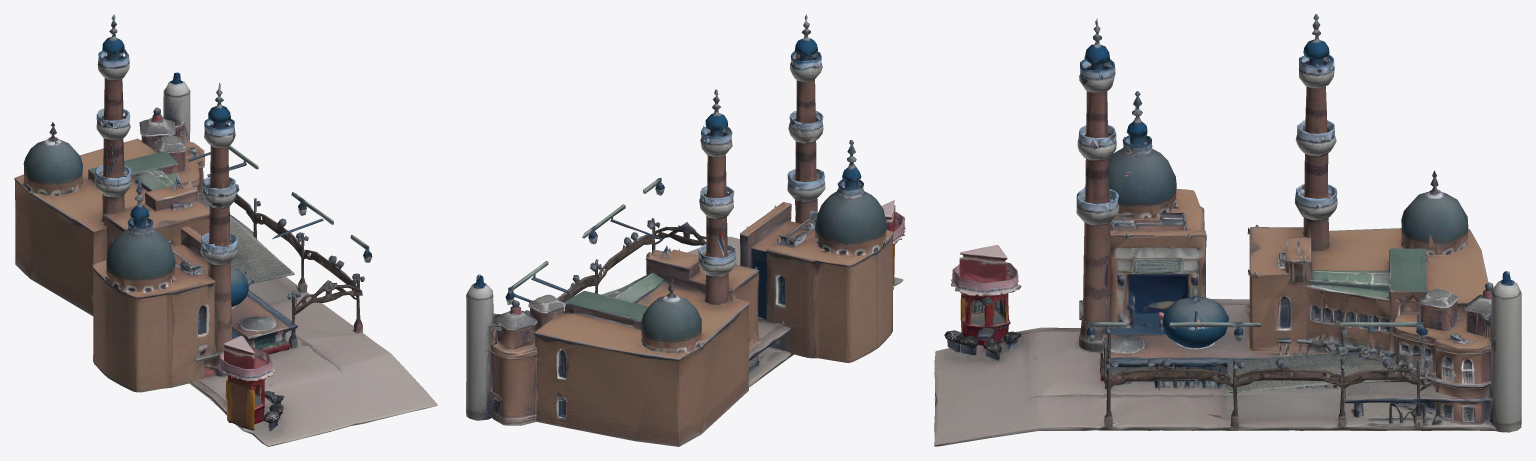
File: urumqi-2.glb
3 renders of one model, left to right at view 1: azimuth 30°, elevation 25°; view 2: azimuth 150°, elevation 25°; view 3: azimuth 270°, elevation 25°, orthographic. The views are drawn at different scales.
Visible parts, largest first — view 1: Urumqi architecture 2; view 2: Urumqi architecture 2; view 3: Urumqi architecture 2.
Boxes of the visible parts, box(x1,y1,x2,y2) form: Urumqi architecture 2: box(14, 14, 437, 446); Urumqi architecture 2: box(466, 14, 905, 446); Urumqi architecture 2: box(934, 14, 1521, 446).
Bounding box in the file's own units: 0.5387 × 0.6539 × 0.9993.
Materials: 1 (1 with a texture image).
